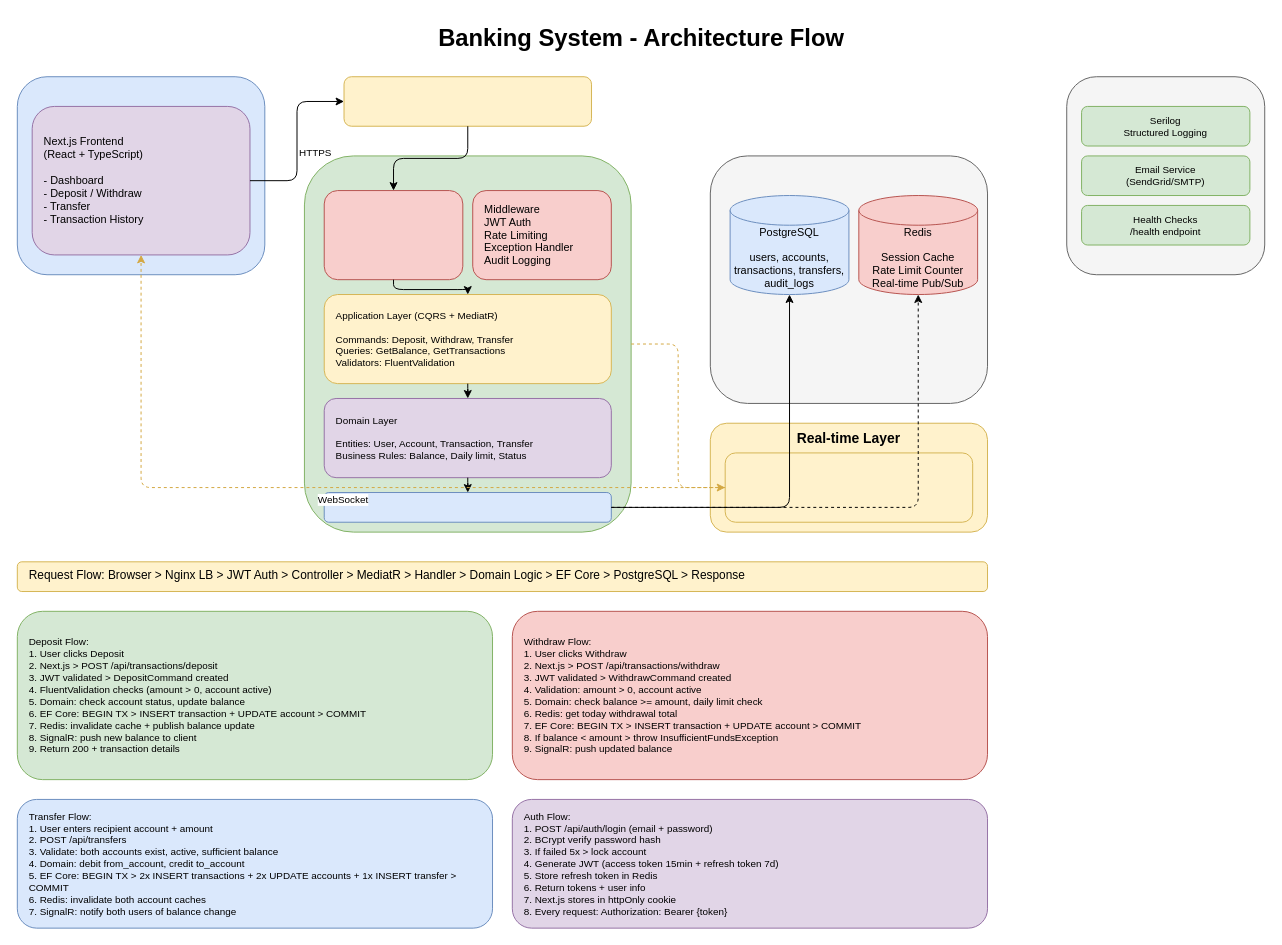
Image size: 1282x945. Some labels were removed from this diagram. Here are the shapes that lost their labels. From the top down, the box of each, then its label:
(343, 76, 592, 126): API Gateway / Load Balancer (Nginx / YARP)
(16, 76, 265, 275): Client Layer
(1066, 76, 1265, 275): External Services
(323, 190, 463, 280): Controllers AccountController TransactionController AuthController
(709, 155, 988, 403): Data Layer
(303, 155, 631, 532): ASP.NET Core API (.NET 10)
(323, 492, 611, 522): Infrastructure Layer EF Core + Repositories + UnitOfWork
(724, 452, 973, 522): SignalR Hub Balance updates (real-time) Transaction notifications Account alerts
